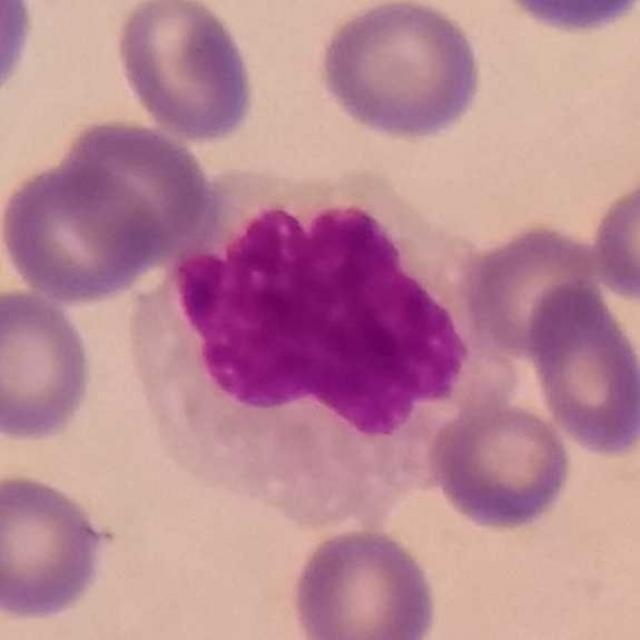Monocyte: (124, 164, 529, 536)
RBC: (314, 0, 486, 144), (0, 156, 164, 306), (51, 116, 215, 265), (455, 218, 607, 361), (523, 277, 640, 461), (110, 0, 258, 145), (424, 399, 576, 533), (286, 523, 442, 640), (0, 468, 116, 624), (0, 285, 96, 445), (587, 163, 640, 309), (486, 0, 640, 38), (0, 0, 39, 109)
